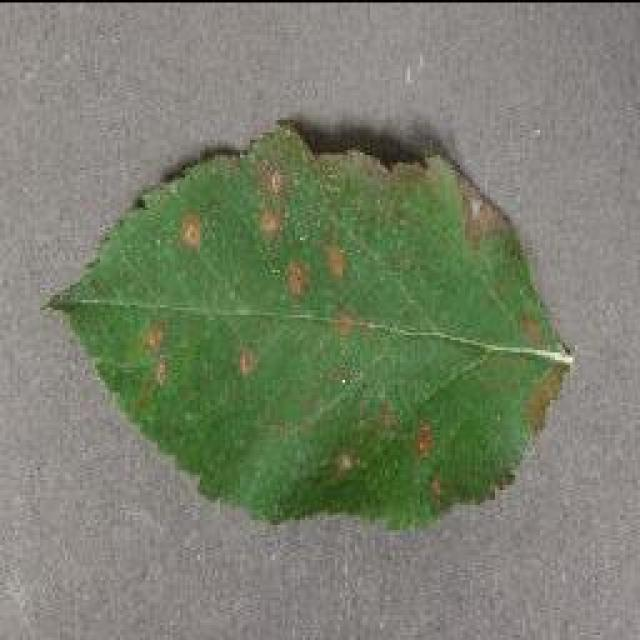apple cedar apple rust: (40, 115, 572, 533)
